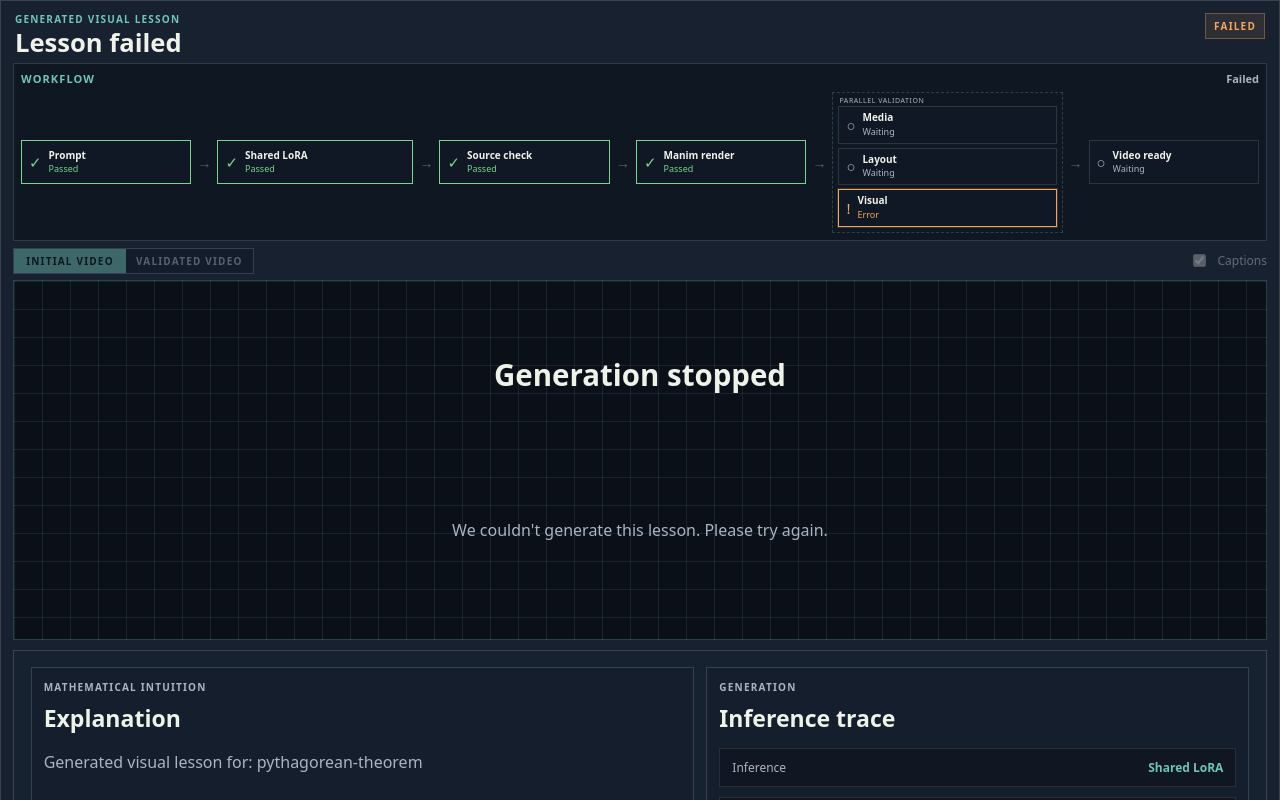
it: LessonResult › distinguishes a validator error from a lesson validation failure
The width and height of the screenshot is (1280, 800).
Click the button with aria-label "Inspect Visual stage".
click(947, 208)  # box [838, 189, 1056, 227]
(page scrolled)
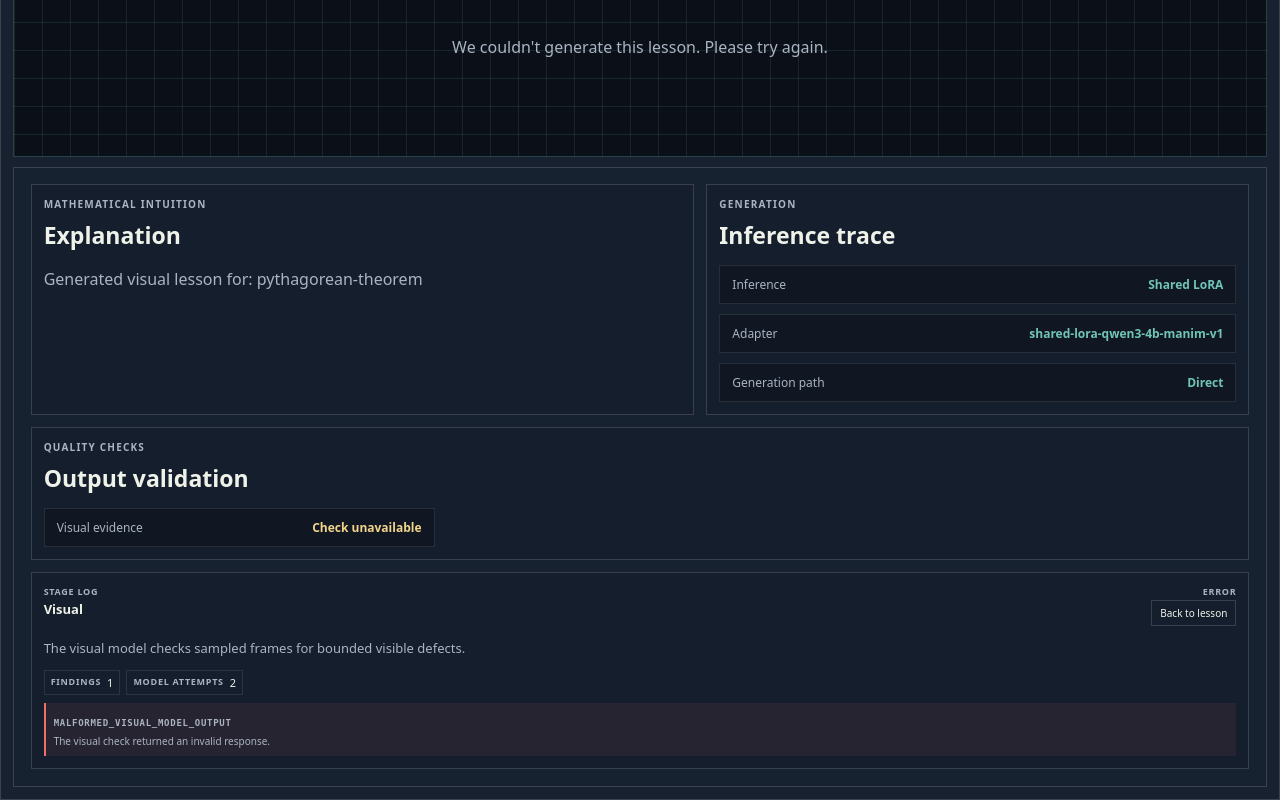
Now the text "Model attempts" is shown, box [133, 675, 224, 690]
Now the text "malformed_visual_model_output" is shown, box [54, 718, 232, 728]
